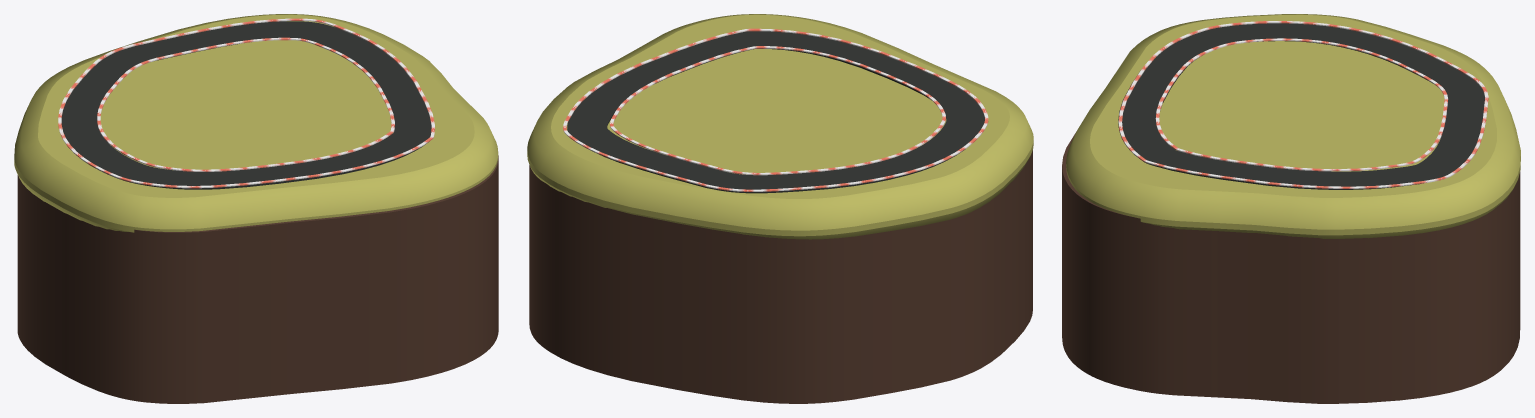
The model's file is island.fbx.
3 renders of one model, left to right at view 1: azimuth 30°, elevation 25°; view 2: azimuth 150°, elevation 25°; view 3: azimuth 270°, elevation 25°, orthographic.
Visible parts, largest first — view 1: Null; view 2: Null; view 3: Null.
Boxes of the visible parts, x1=… form: Null: x1=14, y1=14, x2=498, y2=403; Null: x1=527, y1=14, x2=1033, y2=403; Null: x1=1062, y1=14, x2=1520, y2=403.
Size of the model in its own units: 2226 by 1017 by 2122.
4 materials, 1 textured.
